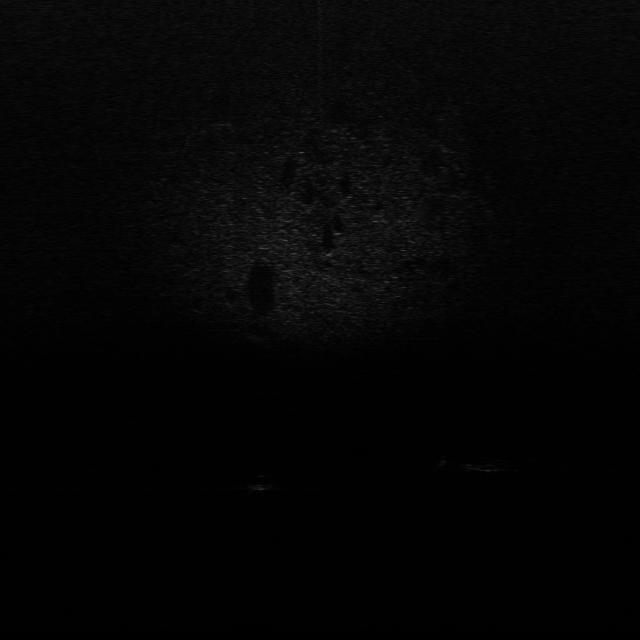ball: (243, 470, 278, 492)
human body: (433, 450, 531, 476)
